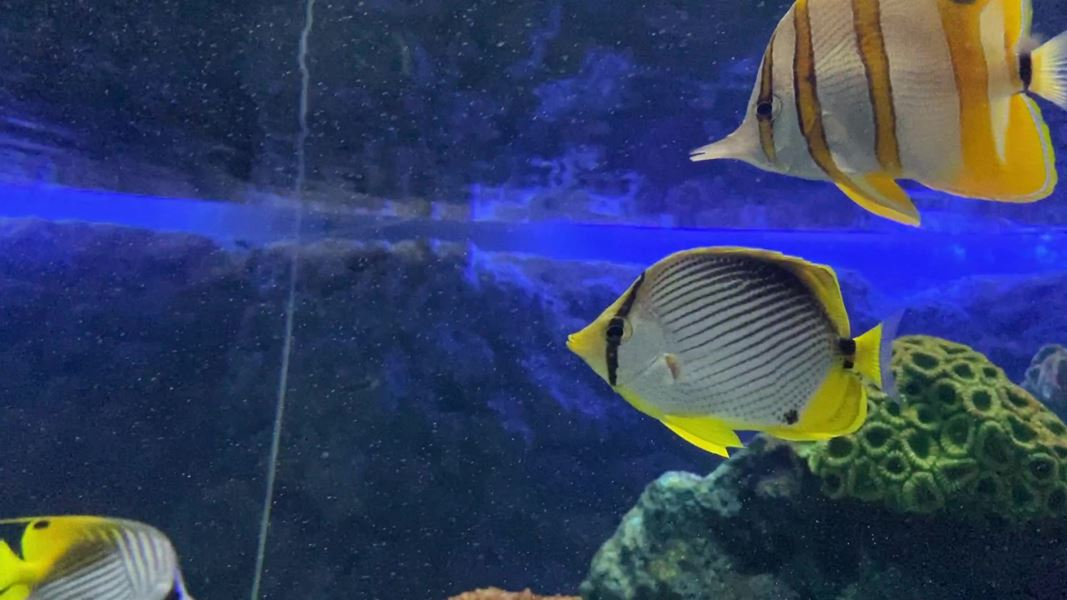Black-backed butterflyfish: (556, 234, 918, 473)
